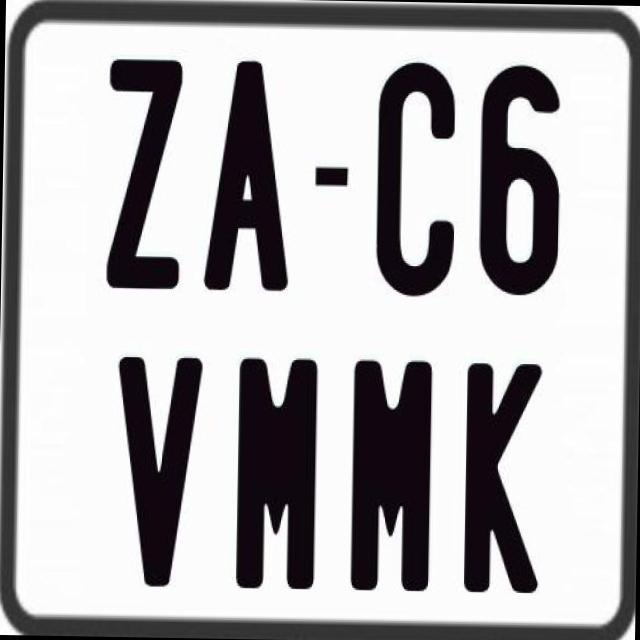6: (474, 65, 564, 300)
A: (203, 57, 295, 294)
C: (375, 62, 457, 300)
K: (460, 361, 542, 599)
M: (350, 354, 436, 586), (235, 357, 318, 589)
V: (113, 352, 203, 582)
Z: (102, 57, 184, 290)
